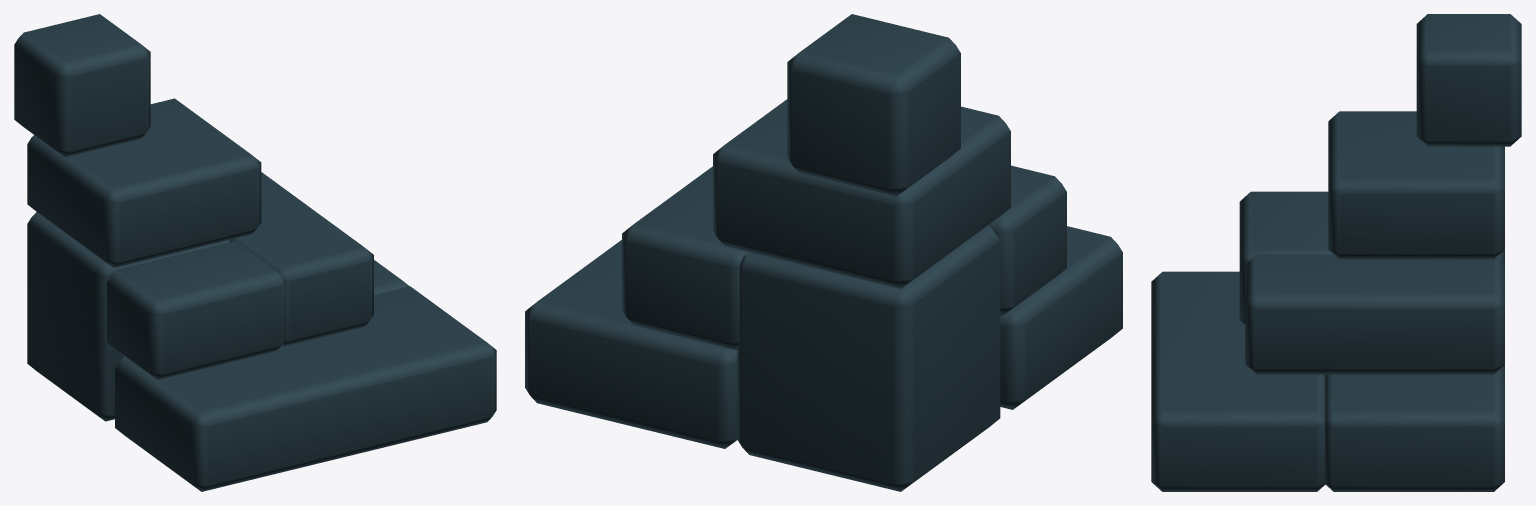
The model's file is stair_corner_convex_hue_4.fbx.
The picture shows the model from 3 angles, left to right: view 1: azimuth 30°, elevation 25°; view 2: azimuth 150°, elevation 25°; view 3: azimuth 270°, elevation 25°; orthographic projection. The views are drawn at different scales.
Visible parts, largest first — view 1: stair_corner_convex_hue_4; view 2: stair_corner_convex_hue_4; view 3: stair_corner_convex_hue_4.
Boxes of the visible parts, left/top/right/bottom form: stair_corner_convex_hue_4: left=14, top=14, right=496, bottom=491; stair_corner_convex_hue_4: left=525, top=14, right=1122, bottom=491; stair_corner_convex_hue_4: left=1151, top=14, right=1521, bottom=491.
Bounding box in the file's own units: 102 × 105 × 105.
